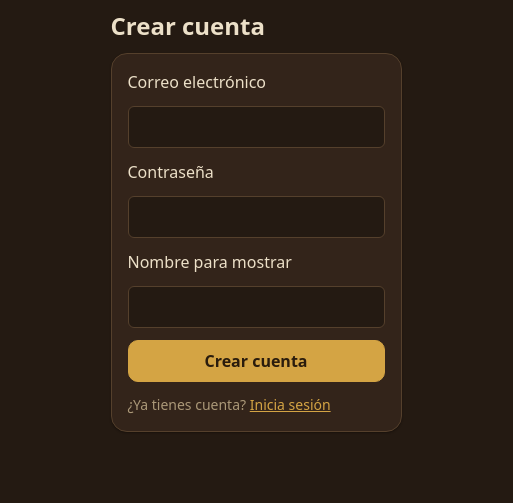
Scenario: RegisterPage › explains what to fix when the API rejects the data with 400
Type "ana@example.com" into the field labelled "Correo electrónico" at (256, 127), box [128,106,384,148]
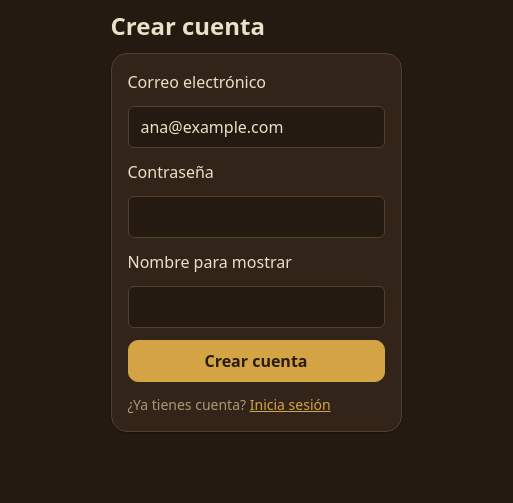
Type "secret12" into the password field labelled "Contraseña" at (256, 217), box [128,196,384,238]
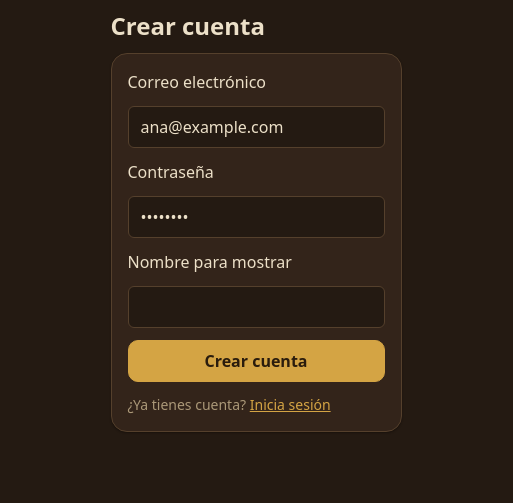
Type "Ana" into the field labelled "Nombre para mostrar" at (256, 307), box [128,286,384,328]
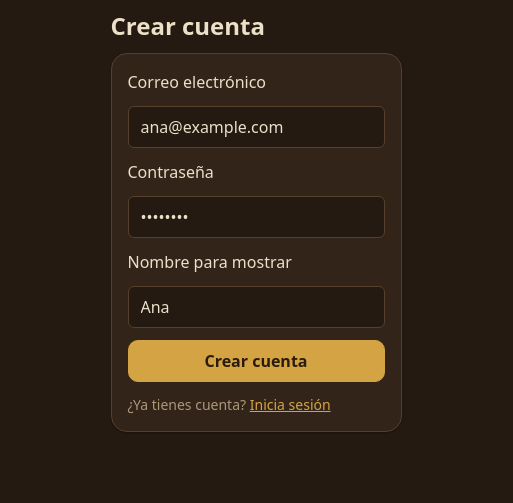
Click the button "Crear cuenta" at (256, 361), box [128,340,384,382]
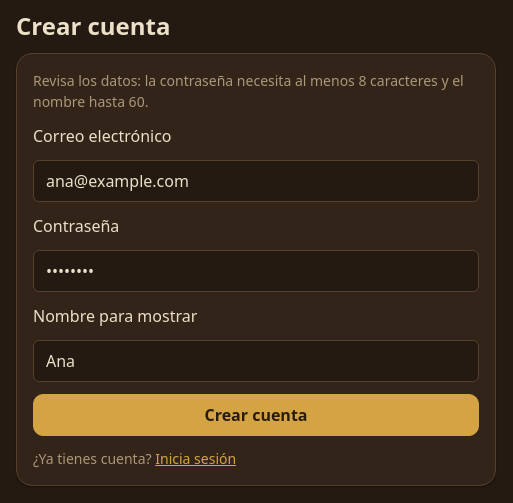
expect the message shows "Revisa los datos: la contraseña necesita al menos 8 caracteres y el nombre hasta 60.": met, box [33,71,464,111]
